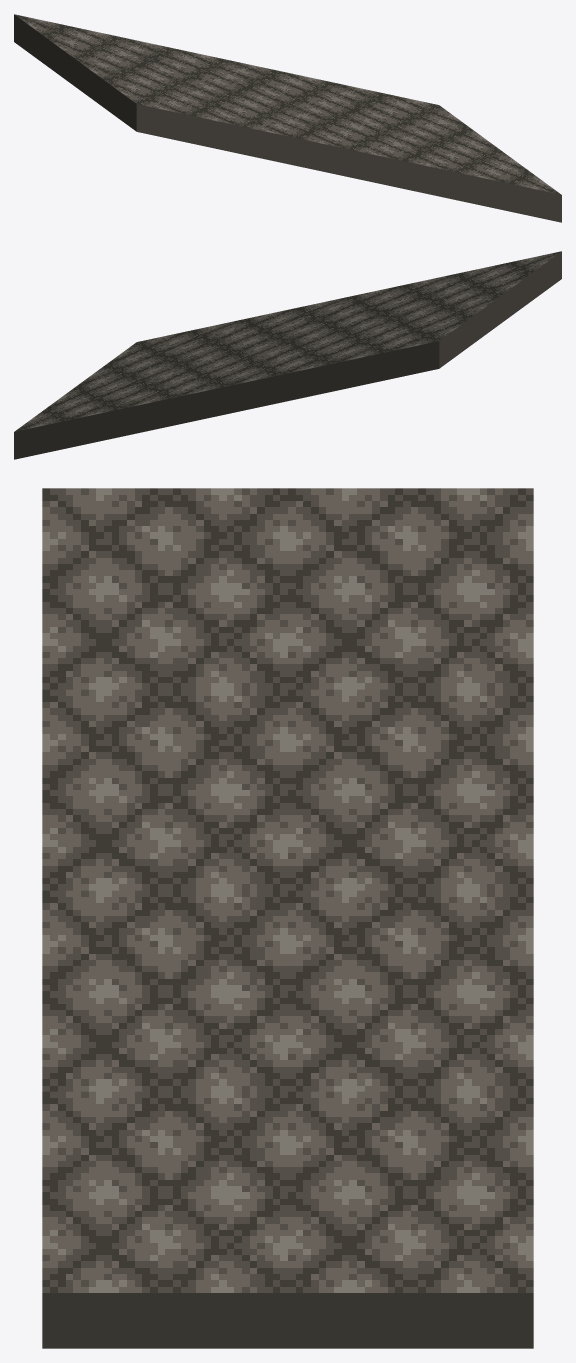
File: Ramp_Long_2.fbx
The picture shows the model from 3 angles, top to bottom: view 1: azimuth 30°, elevation 25°; view 2: azimuth 150°, elevation 25°; view 3: azimuth 270°, elevation 25°; orthographic projection. The views are drawn at different scales.
Parts seen in each view (by area): view 1: Ramp_Long_2; view 2: Ramp_Long_2; view 3: Ramp_Long_2.
Boxes of the visible parts, x1,y1,x2,y2 form: Ramp_Long_2: [14, 14, 561, 222]; Ramp_Long_2: [14, 251, 561, 459]; Ramp_Long_2: [42, 488, 533, 1348].
Size of the model in its own units: 800 by 400 by 400.
Materials: 1 (1 with a texture image).
